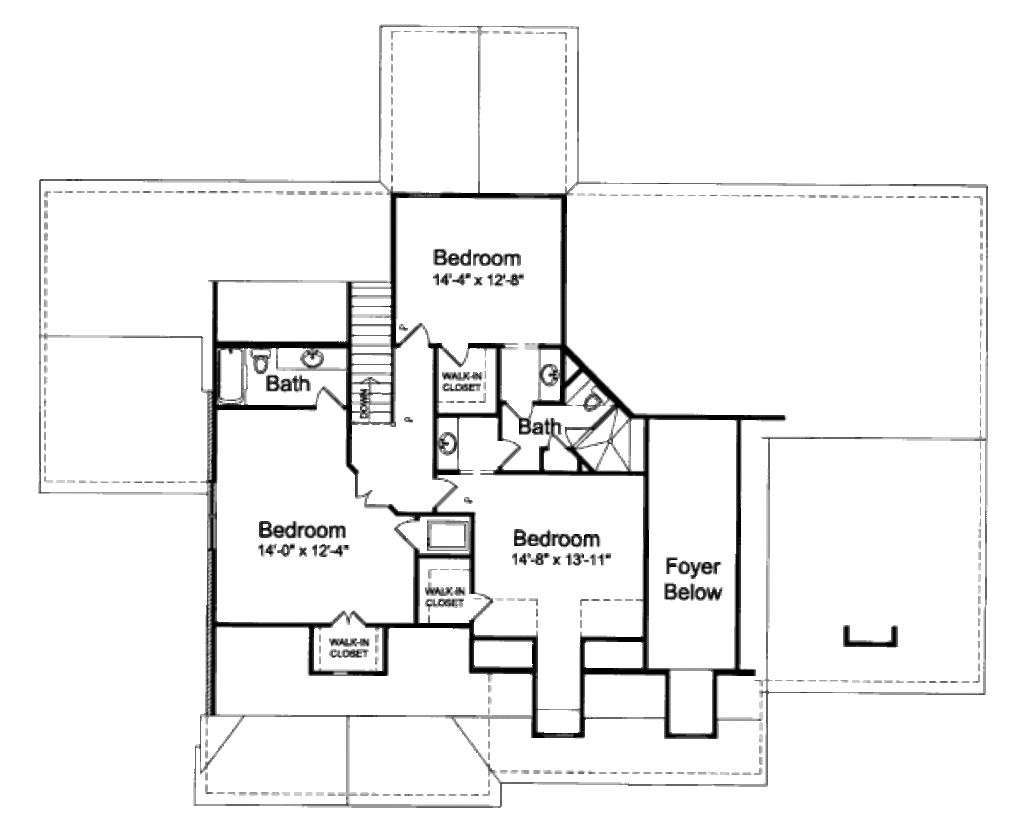door: (344, 475, 391, 514), (460, 588, 496, 631), (317, 607, 368, 632), (388, 325, 433, 353), (393, 512, 420, 553), (429, 473, 457, 510), (490, 436, 519, 471), (437, 343, 470, 365)
large_sink: (582, 386, 610, 421), (247, 348, 277, 378)
small_sink: (279, 346, 345, 372), (429, 416, 458, 470), (538, 350, 565, 402)
stairs: (344, 282, 397, 431)
tub: (213, 349, 247, 412)
